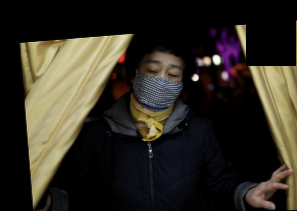with_mask: (132, 56, 184, 110)
